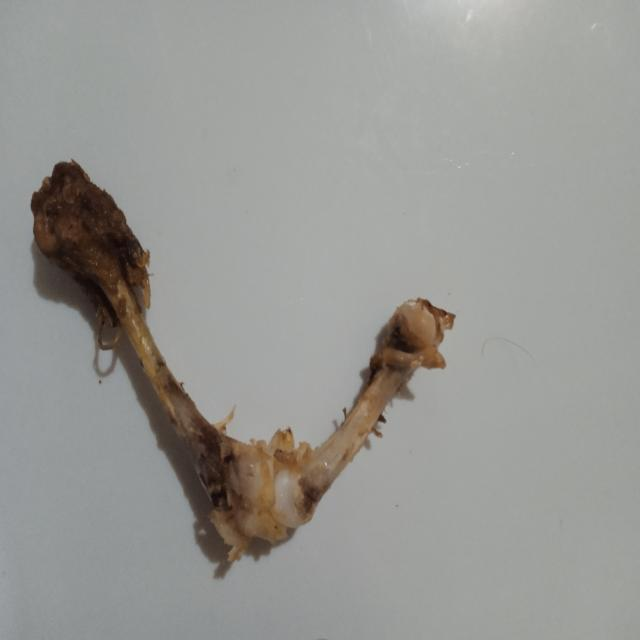bone: (12, 134, 472, 586)
